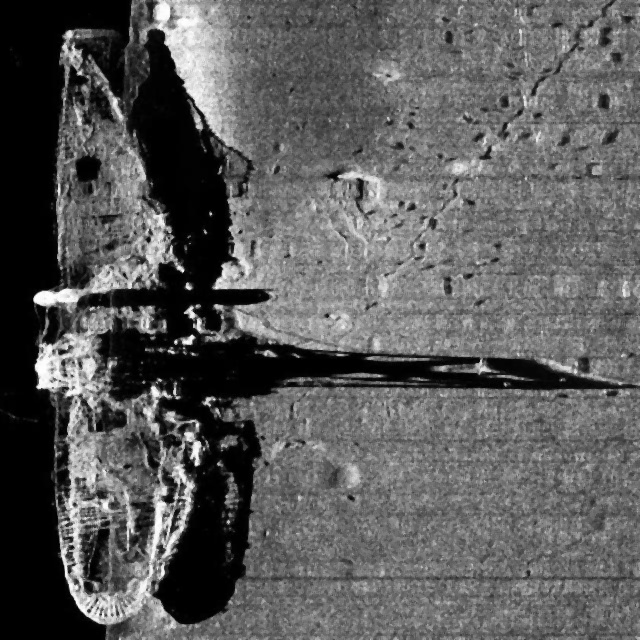Ship: (31, 19, 276, 633)
